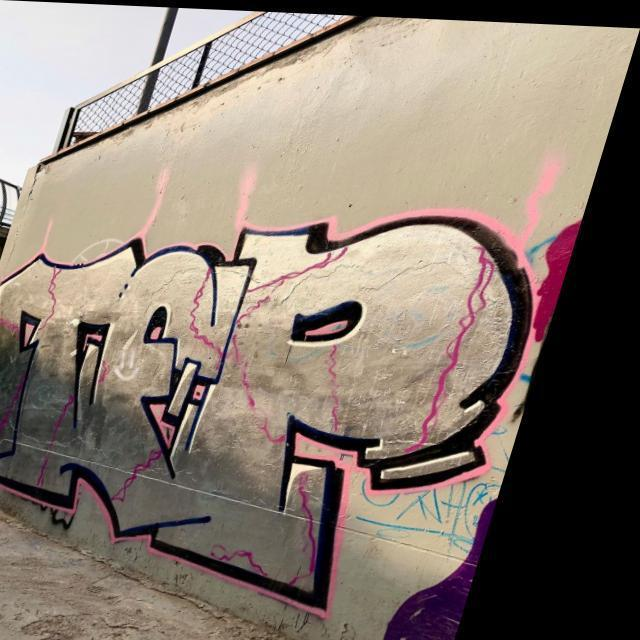-: (0, 200, 585, 630)
